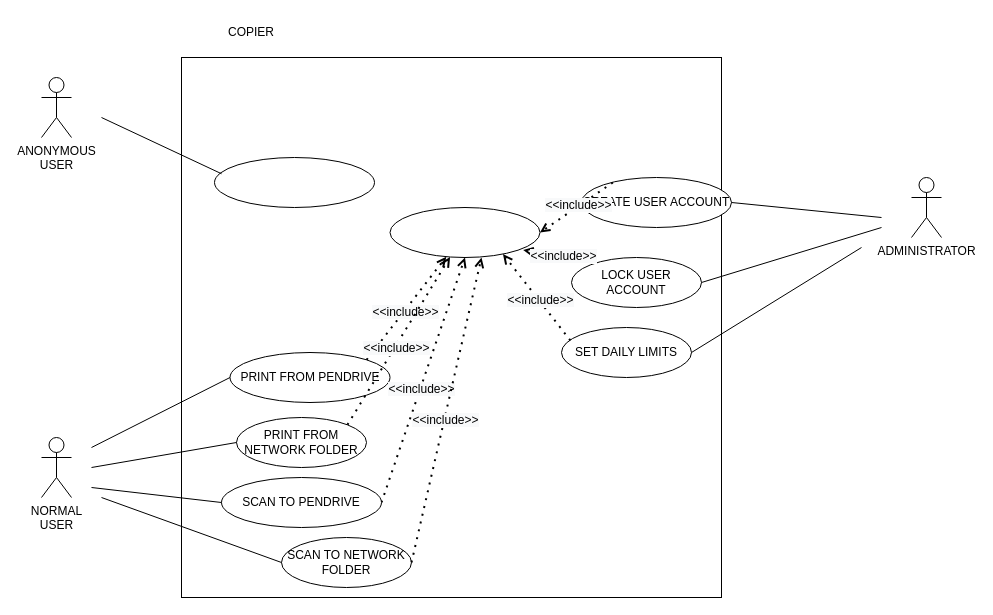
Image size: 993x615. Some labels were removed from this diagram. Each missing label, with the centre of its shape:
LOG IN: the point at 464,232
MAKE COPIES: the point at 294,182
